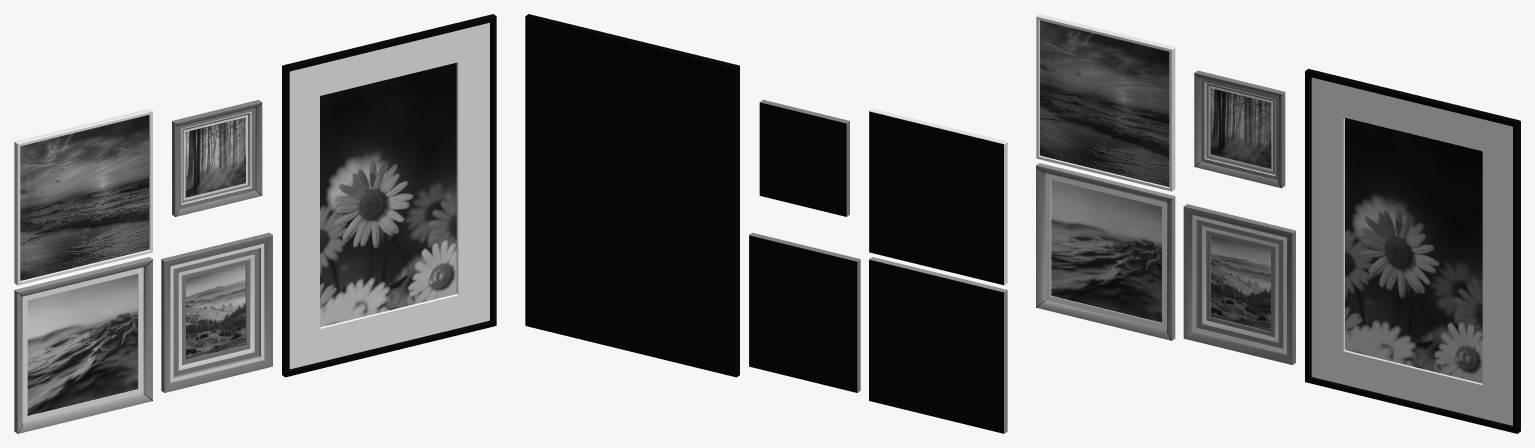
File: 5cardes.glb
3 views of the same model, side by side, from view 1: azimuth 30°, elevation 25°; view 2: azimuth 150°, elevation 25°; view 3: azimuth 330°, elevation 25° (orthographic).
Visible parts, largest first — view 1: Frame_05_Frame_Version_02_0.001, Frame_03_Frame_Version_02_0.001, Frame_01_Frame_Version_02_0.001, Frame_04_Frame_Version_02_0.001, Frame_02_Frame_Version_02_0.001; view 2: Frame_05_Frame_Version_02_0.001, Frame_03_Frame_Version_02_0.001, Frame_01_Frame_Version_02_0.001, Frame_04_Frame_Version_02_0.001, Frame_02_Frame_Version_02_0.001; view 3: Frame_05_Frame_Version_02_0.001, Frame_03_Frame_Version_02_0.001, Frame_01_Frame_Version_02_0.001, Frame_04_Frame_Version_02_0.001, Frame_02_Frame_Version_02_0.001.
Part boxes in pixels (x1,y1,x2,y2): Frame_05_Frame_Version_02_0.001: [282, 14, 496, 377]; Frame_03_Frame_Version_02_0.001: [14, 257, 152, 433]; Frame_01_Frame_Version_02_0.001: [14, 108, 152, 285]; Frame_04_Frame_Version_02_0.001: [161, 232, 272, 392]; Frame_02_Frame_Version_02_0.001: [172, 100, 262, 216]; Frame_05_Frame_Version_02_0.001: [525, 14, 739, 377]; Frame_03_Frame_Version_02_0.001: [869, 257, 1007, 433]; Frame_01_Frame_Version_02_0.001: [869, 108, 1007, 285]; Frame_04_Frame_Version_02_0.001: [749, 232, 860, 392]; Frame_02_Frame_Version_02_0.001: [759, 99, 849, 216]; Frame_05_Frame_Version_02_0.001: [1305, 69, 1520, 433]; Frame_03_Frame_Version_02_0.001: [1036, 163, 1175, 340]; Frame_01_Frame_Version_02_0.001: [1036, 14, 1175, 191]; Frame_04_Frame_Version_02_0.001: [1183, 204, 1295, 364]; Frame_02_Frame_Version_02_0.001: [1194, 70, 1285, 188].
Size of the model in its own units: 237 by 147 by 2.99.
1 material, 1 textured.
